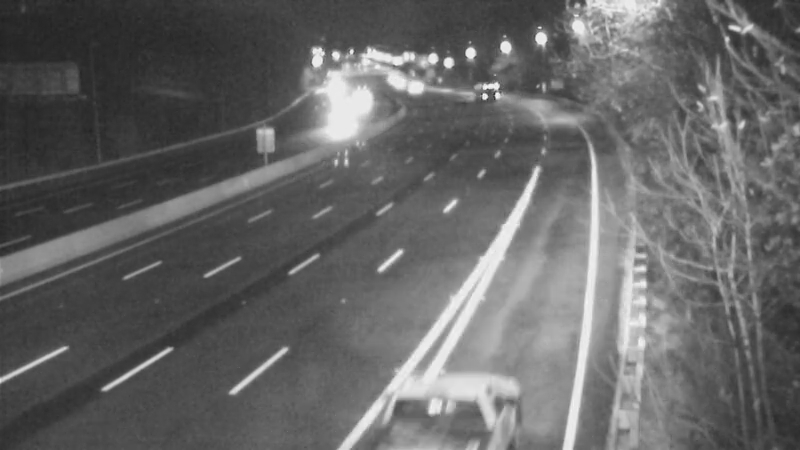vehicle: (460, 67, 510, 117), (390, 66, 440, 116), (315, 92, 365, 142)
